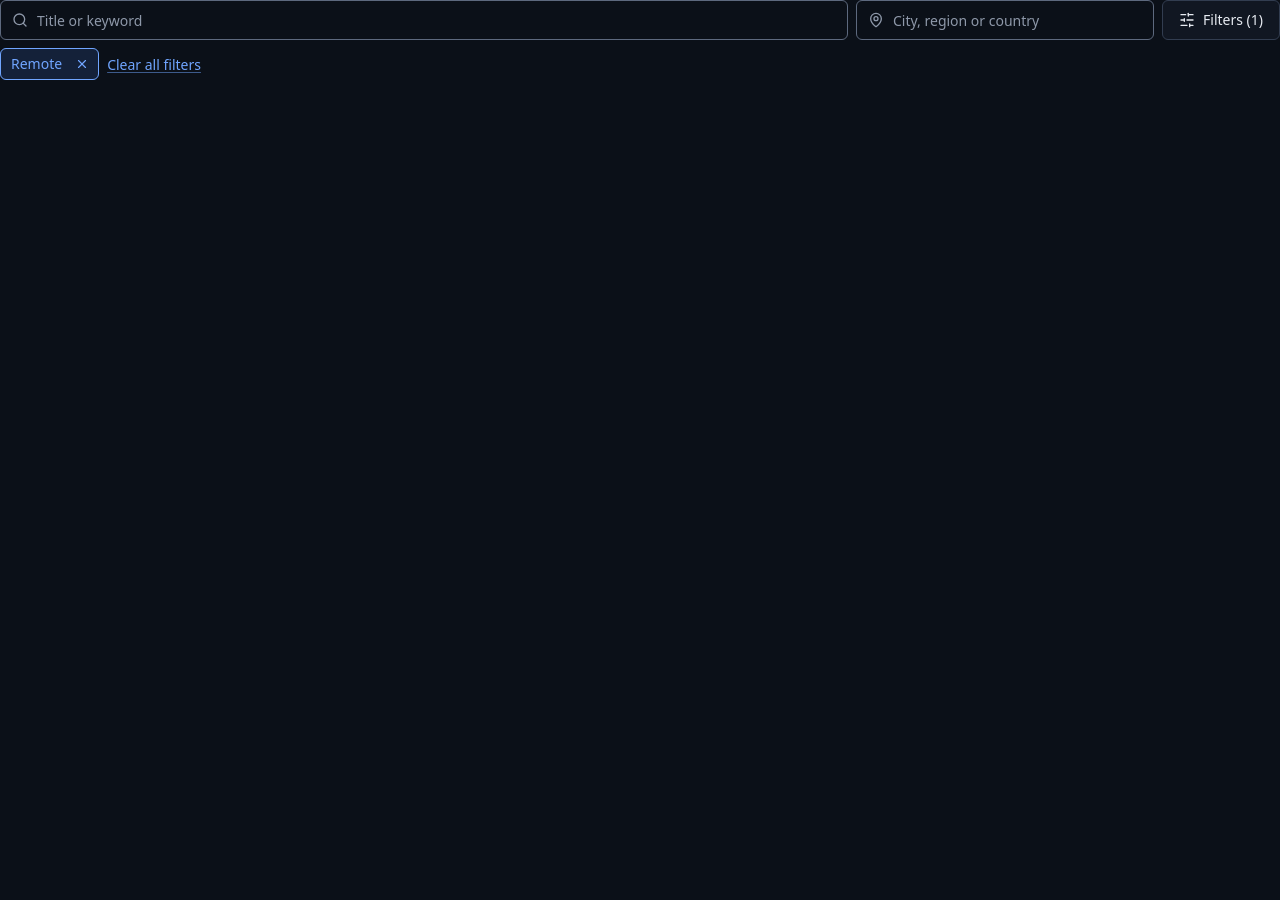
the filter sheet › a pressed option says so with aria-pressed and a check, not colour alone
This screenshot has width=1280, height=900.
Click the button "Filters (1)": [1221, 20] box [1162,0,1279,40]
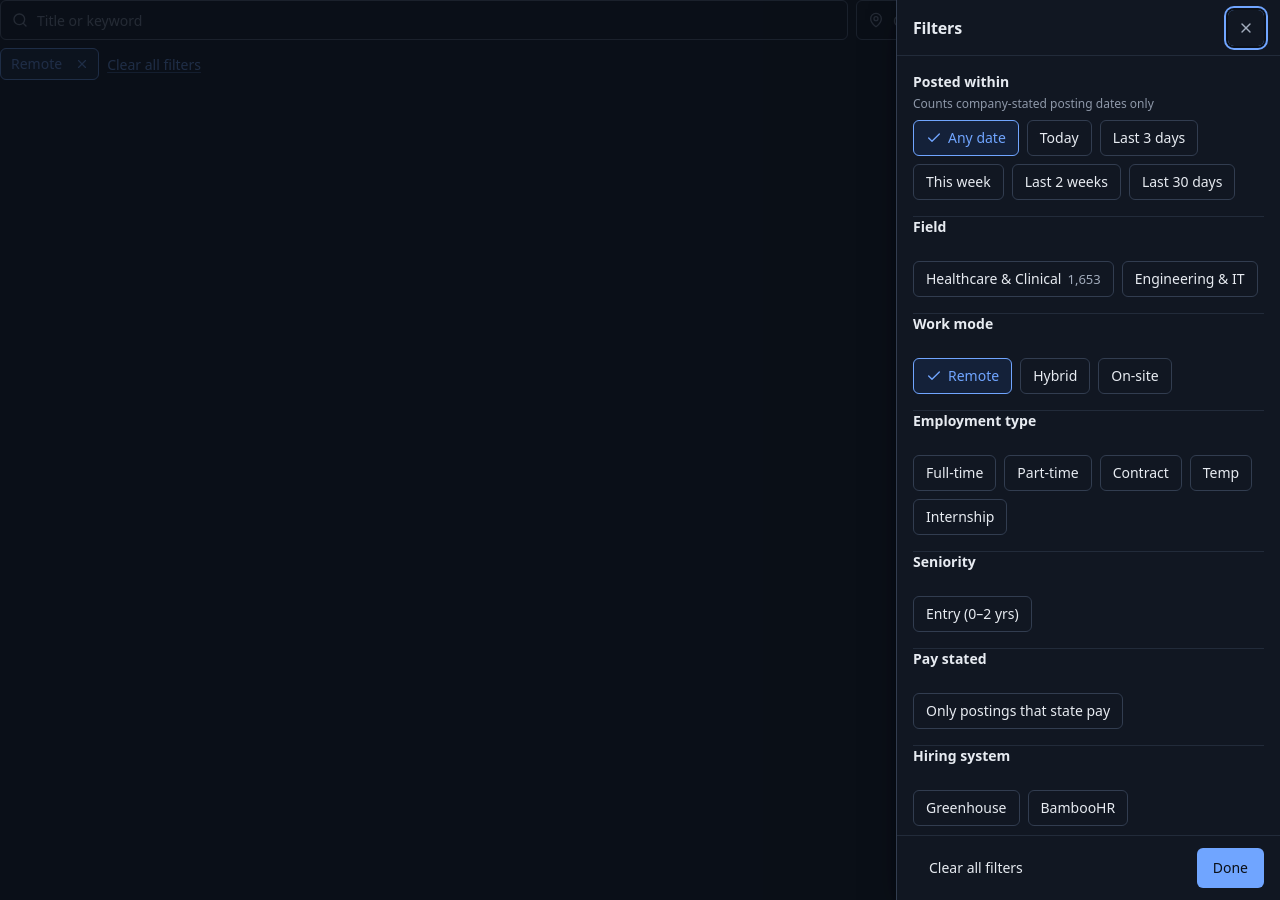
Check: the icon below "Work mode" is shown, box [926,368,942,384]
